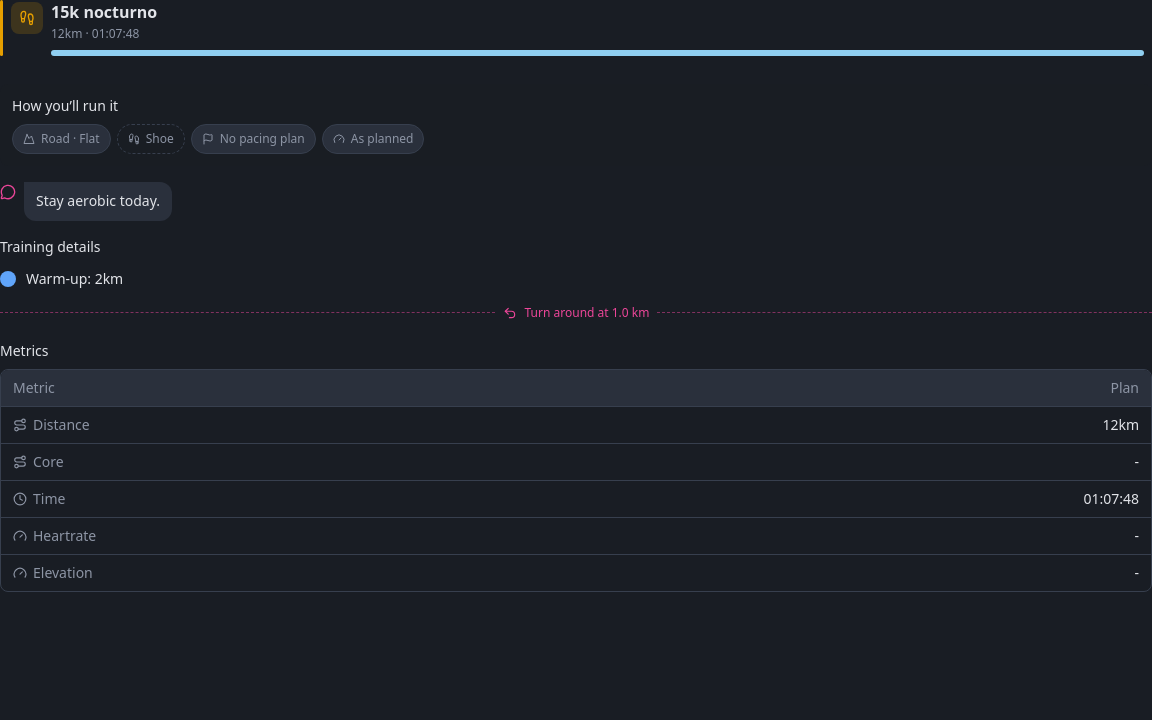
Test: the pacing plan on race day › opens the three strategies from the chip, with the coach’s copy
This screenshot has width=1152, height=720.
Click the button "No pacing plan".
click(253, 139)  # box [191, 124, 316, 154]
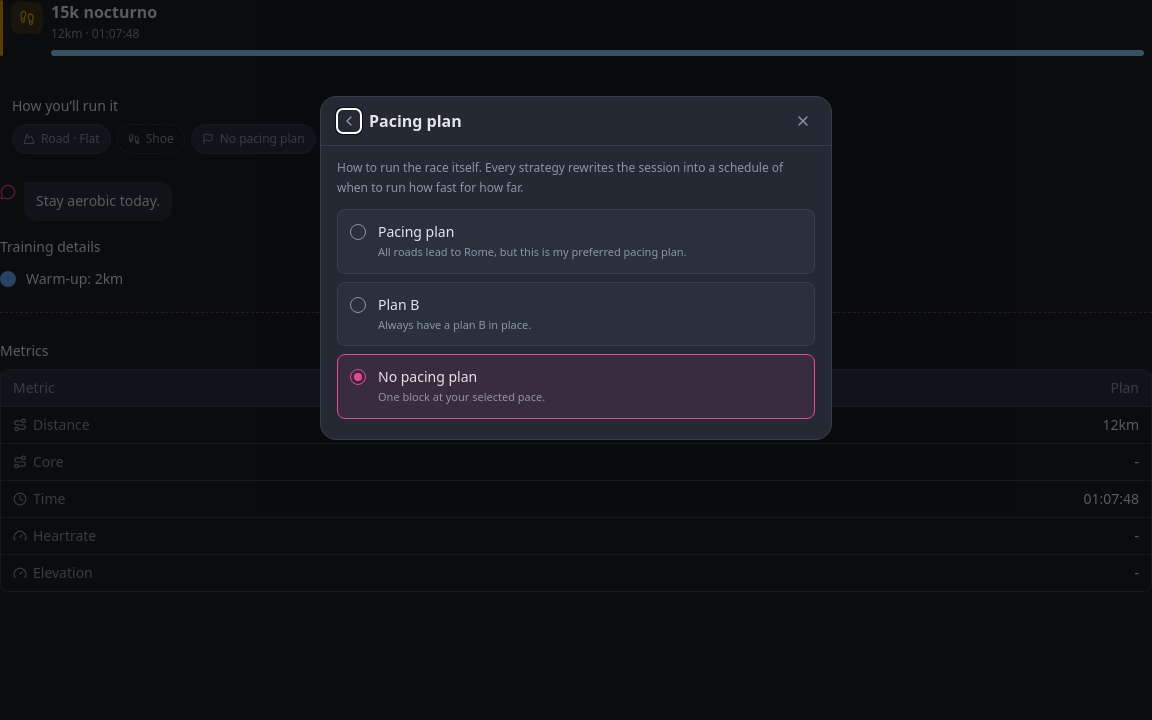
Check: the text "How to run the race itself" is shown, box [337, 159, 783, 196]
Check: the button "Plan B Always have a plan B in place." is shown, box [337, 282, 815, 346]
